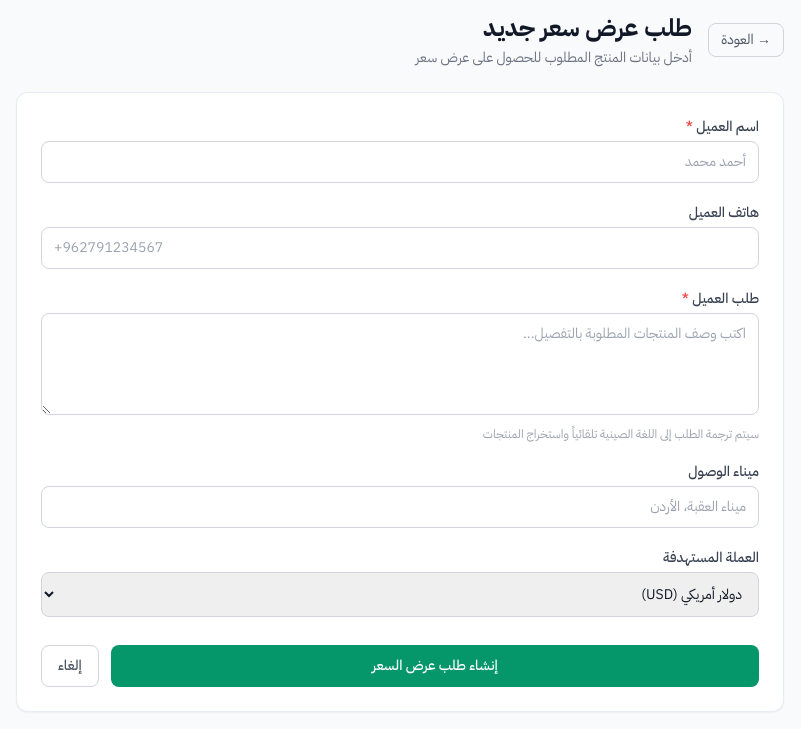
RFQCreatePage › shows a loading state while the request is in flight
This screenshot has width=801, height=729.
Type "Ali Import Co." into the field with placeholder "أحمد محمد" at point(400, 162), box [41,141,759,183]
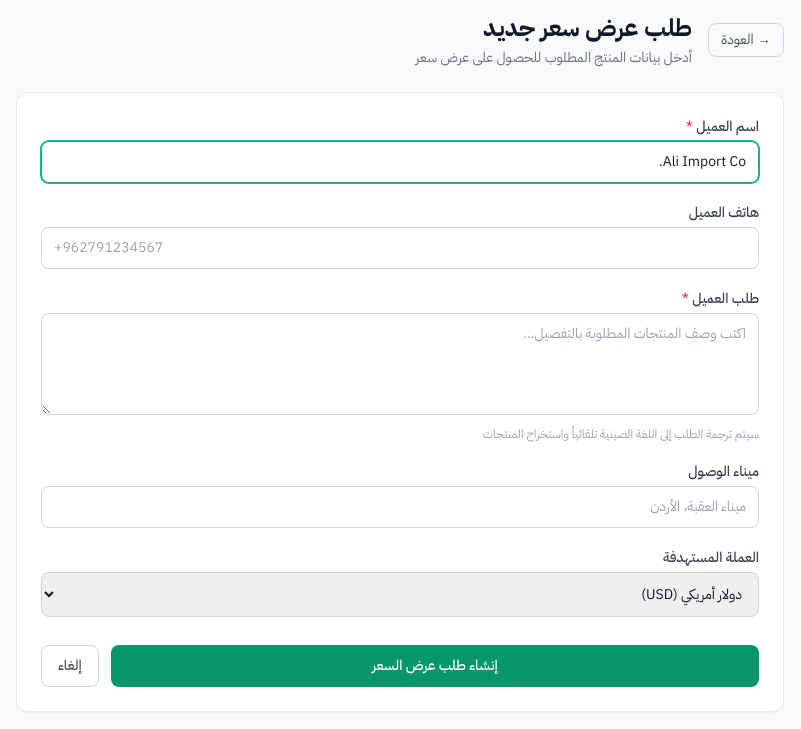
Type "test request" into the text box with placeholder "اكتب وصف المنتجات المطلوبة بالتفصيل..." at point(400, 364), box [41,313,759,415]
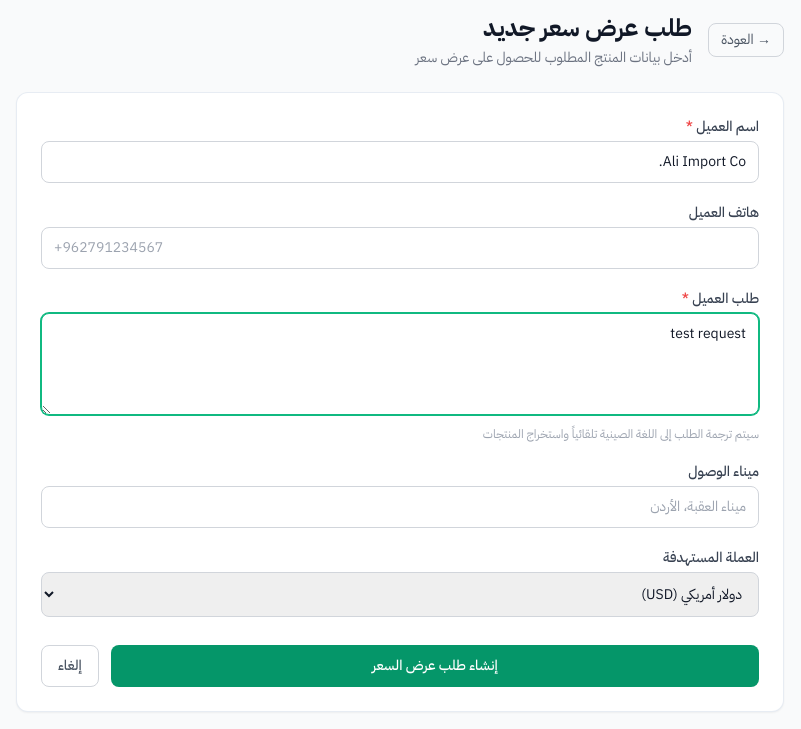
Click the button "إنشاء طلب عرض السعر" at point(435, 666), box [111,645,759,687]
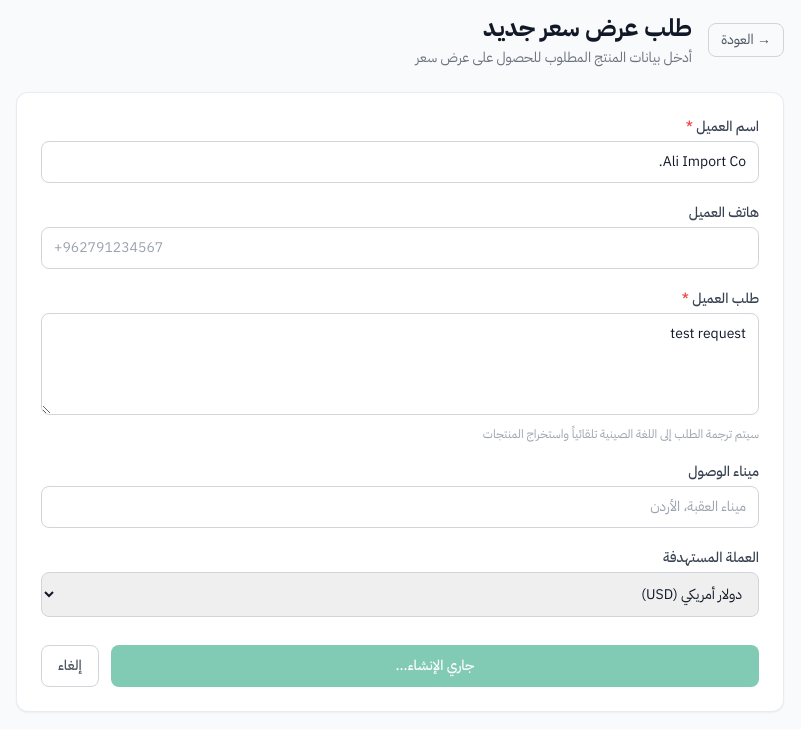
Now the button "جاري الإنشاء..." is disabled, box [111,645,759,687]
